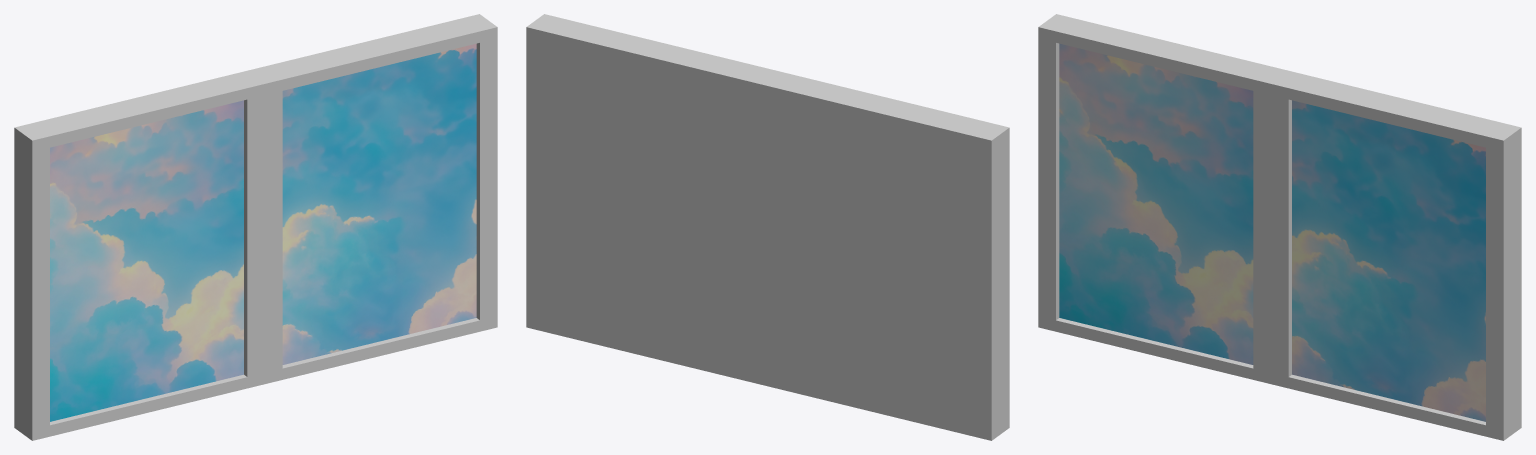
Rendered from janela.fbx.
The picture shows the model from 3 angles, left to right: view 1: azimuth 30°, elevation 25°; view 2: azimuth 150°, elevation 25°; view 3: azimuth 330°, elevation 25°; orthographic projection.
Visible parts, largest first — view 1: Cube; view 2: Cube; view 3: Cube.
Part boxes in pixels (x1,y1,x2,y2): Cube: (14,14,497,440); Cube: (526,14,1009,440); Cube: (1038,14,1521,440).
Bounding box in the file's own units: 563 × 347 × 37.58.
2 materials, 1 textured.
